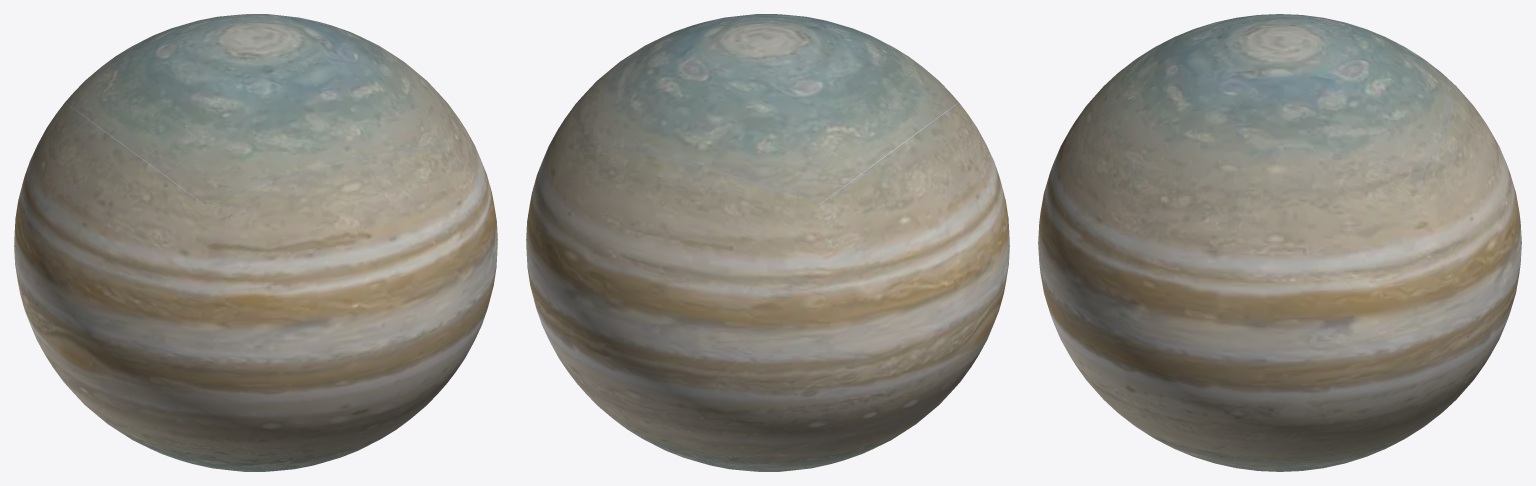
Rendered from jupiter.glb.
3 views of the same model, side by side, from view 1: azimuth 30°, elevation 25°; view 2: azimuth 150°, elevation 25°; view 3: azimuth 270°, elevation 25° (orthographic).
Parts seen in each view (by area): view 1: cubemap; view 2: cubemap; view 3: cubemap.
Part boxes in pixels (x1,y1,x2,y2): cubemap: [14, 14, 497, 471]; cubemap: [526, 14, 1009, 471]; cubemap: [1038, 14, 1521, 471].
Bounding box in the file's own units: 1000 × 935 × 1000.
1 material, 1 textured.
